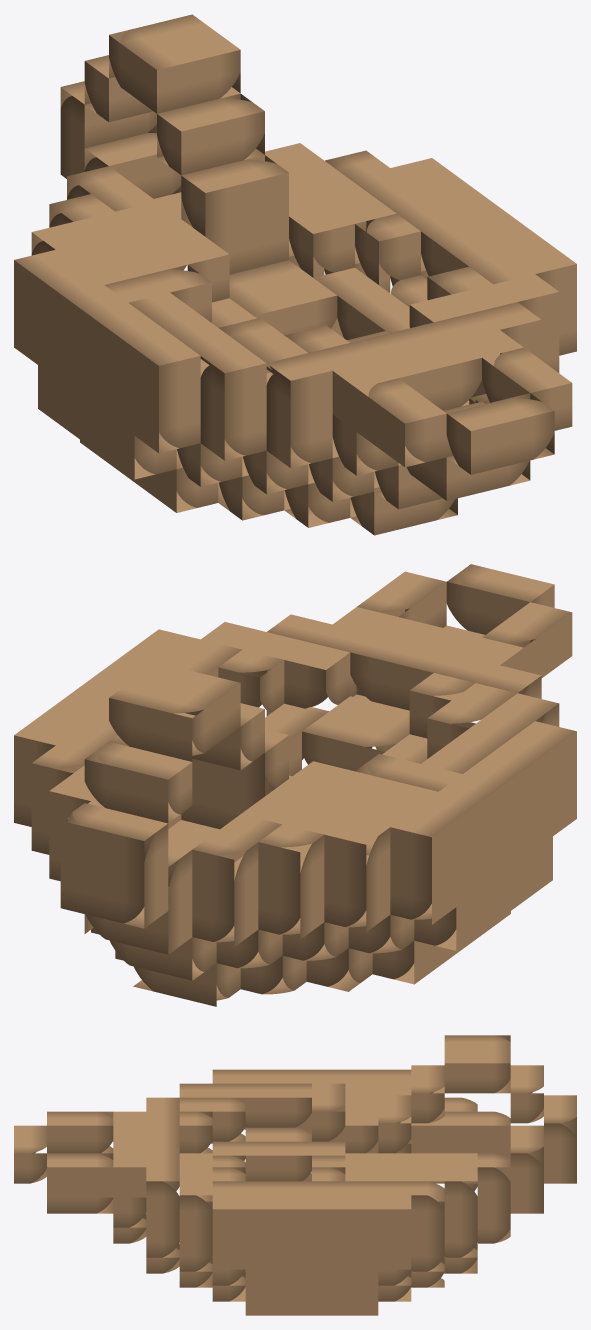
File: OilLamp2.obj
The picture shows the model from 3 angles, top to bottom: view 1: azimuth 30°, elevation 25°; view 2: azimuth 150°, elevation 25°; view 3: azimuth 270°, elevation 25°; orthographic projection. The views are drawn at different scales.
Parts seen in each view (by area): view 1: Model; view 2: Model; view 3: Model.
Part boxes in pixels (bbox=[...]): Model: bbox=[14, 14, 576, 535]; Model: bbox=[14, 564, 576, 1006]; Model: bbox=[14, 1035, 576, 1315].
Size of the model in its own units: 5 by 3.5 by 8.5.
1 material, 1 textured.
